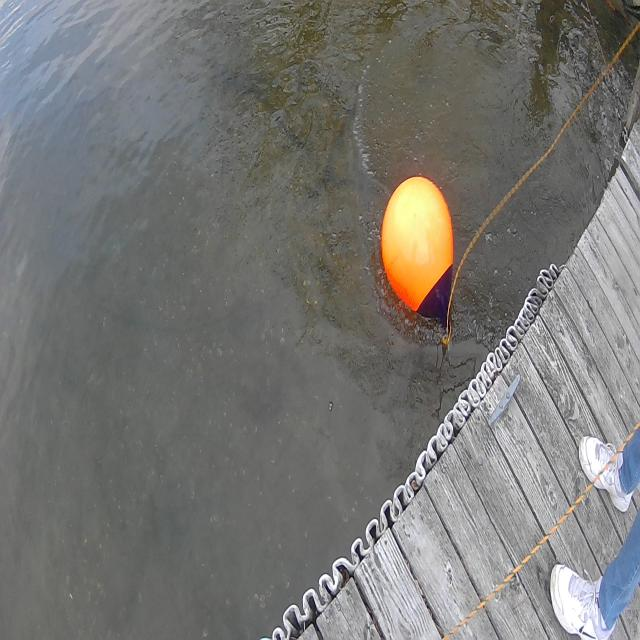Buoy: (378, 167, 461, 341)
